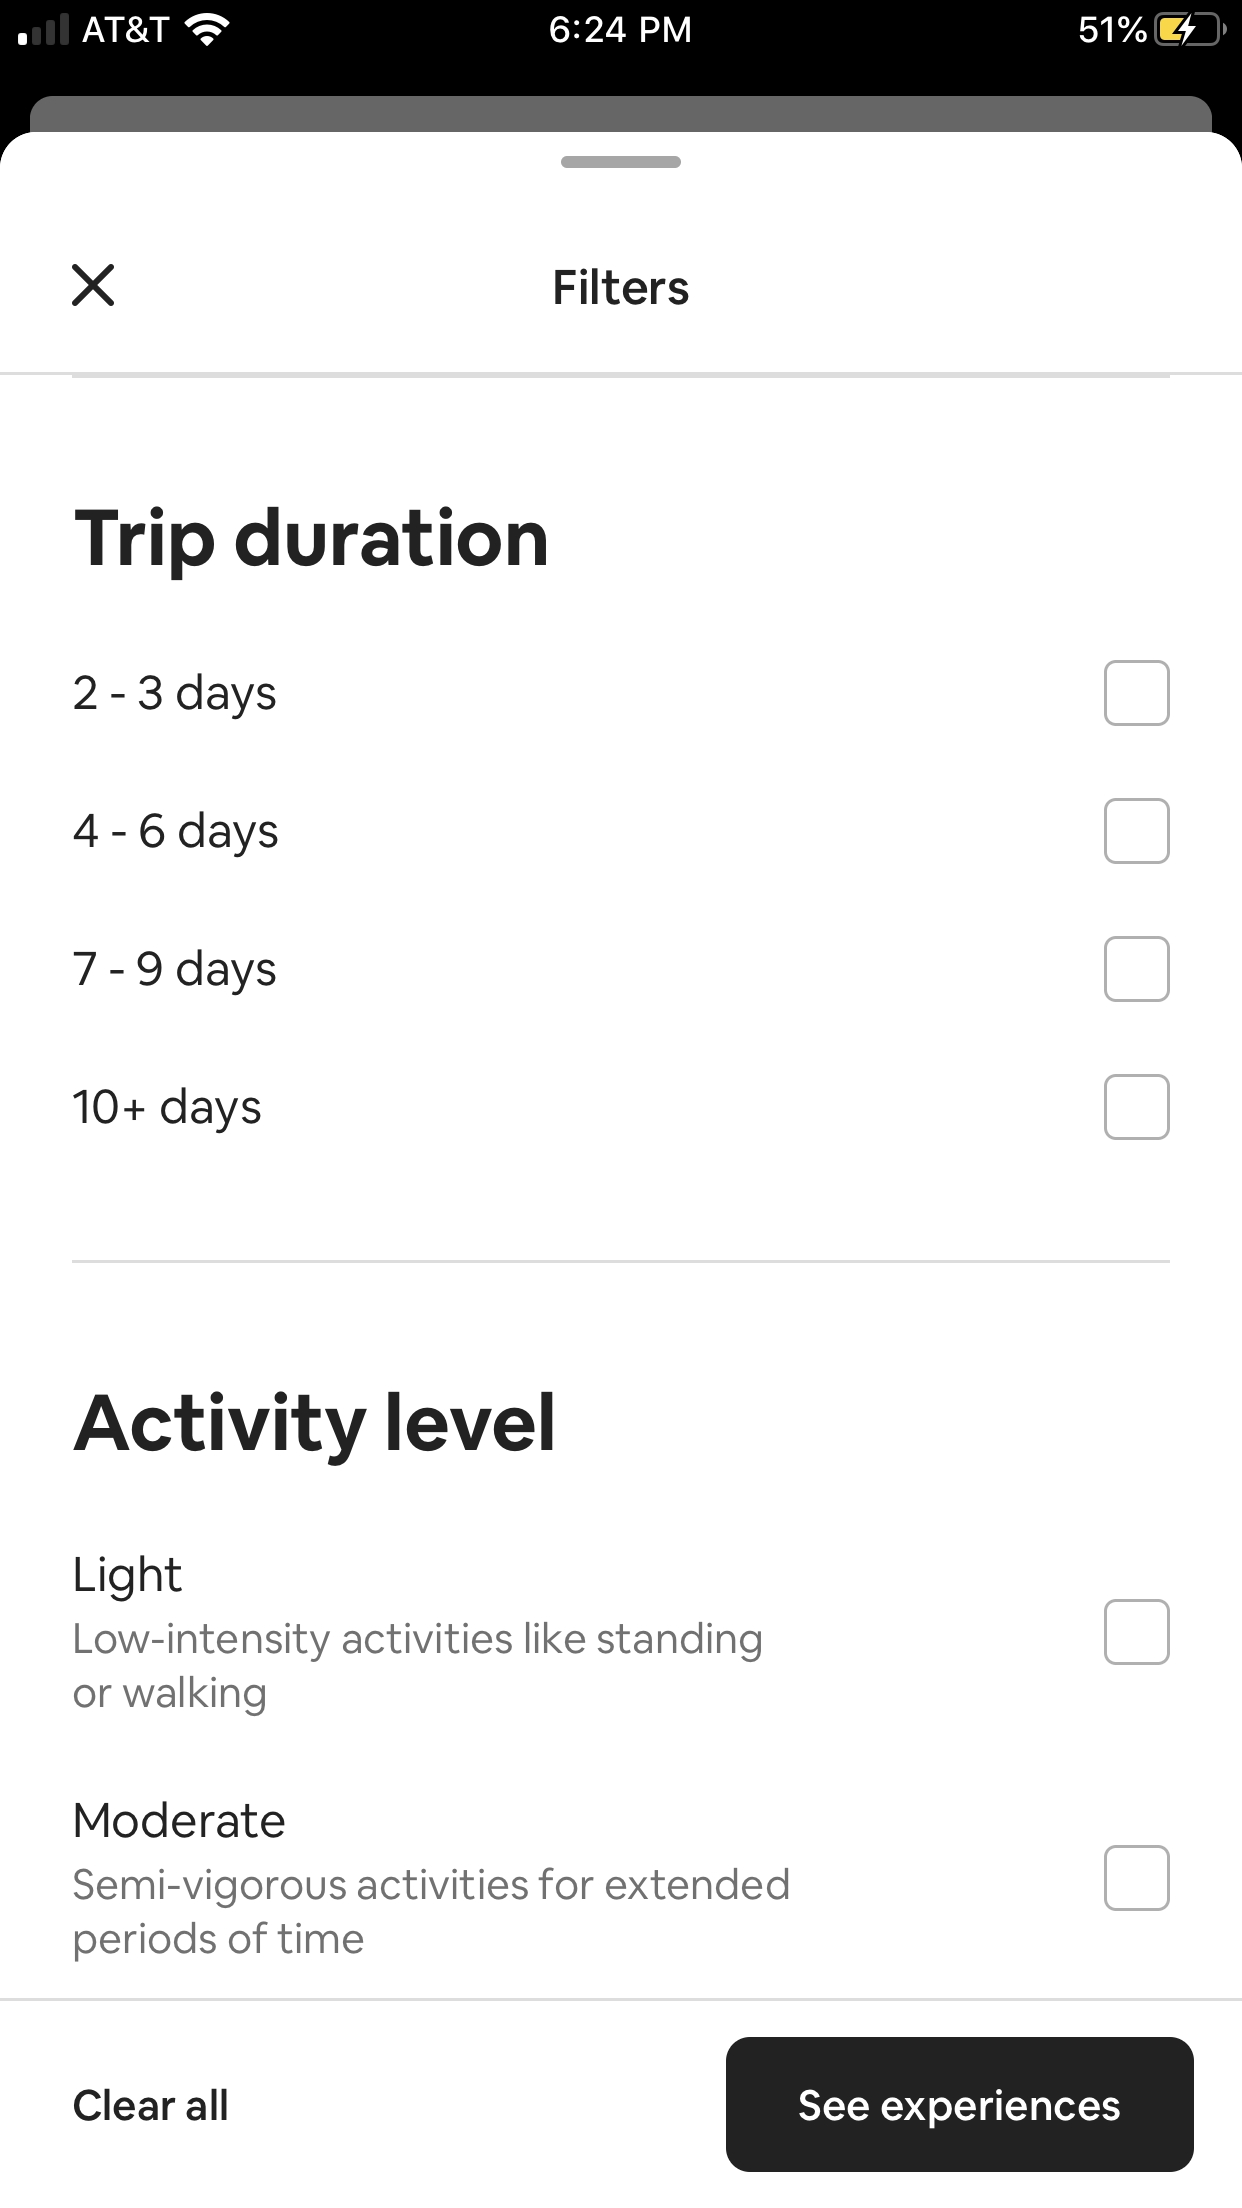CheckedTextView: (73, 1844, 1171, 1962), (74, 1598, 1171, 1717), (74, 660, 1171, 728), (73, 1074, 1171, 1140), (74, 798, 1171, 864), (74, 936, 1171, 1002)
Icon: (71, 262, 115, 308)
Text: (73, 1865, 789, 1962), (74, 1620, 763, 1717), (73, 1391, 554, 1466), (74, 503, 547, 579), (74, 672, 278, 720), (74, 948, 278, 996), (74, 811, 279, 858), (73, 1087, 262, 1134), (74, 1800, 287, 1839), (74, 2087, 229, 2122), (74, 1554, 183, 1603), (555, 268, 690, 306)
TextButton: (726, 2037, 1195, 2173)
UpperTaskBar: (2, 2, 1242, 49)
